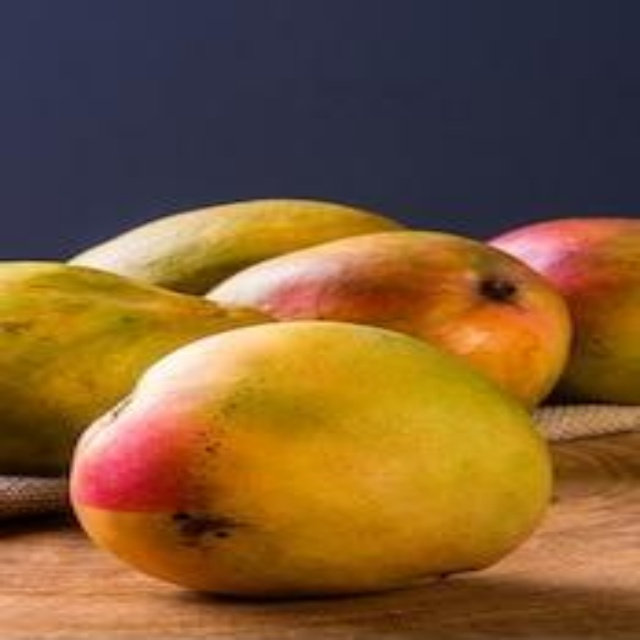mango: (76, 342, 557, 589), (125, 187, 566, 396), (4, 251, 267, 443)
